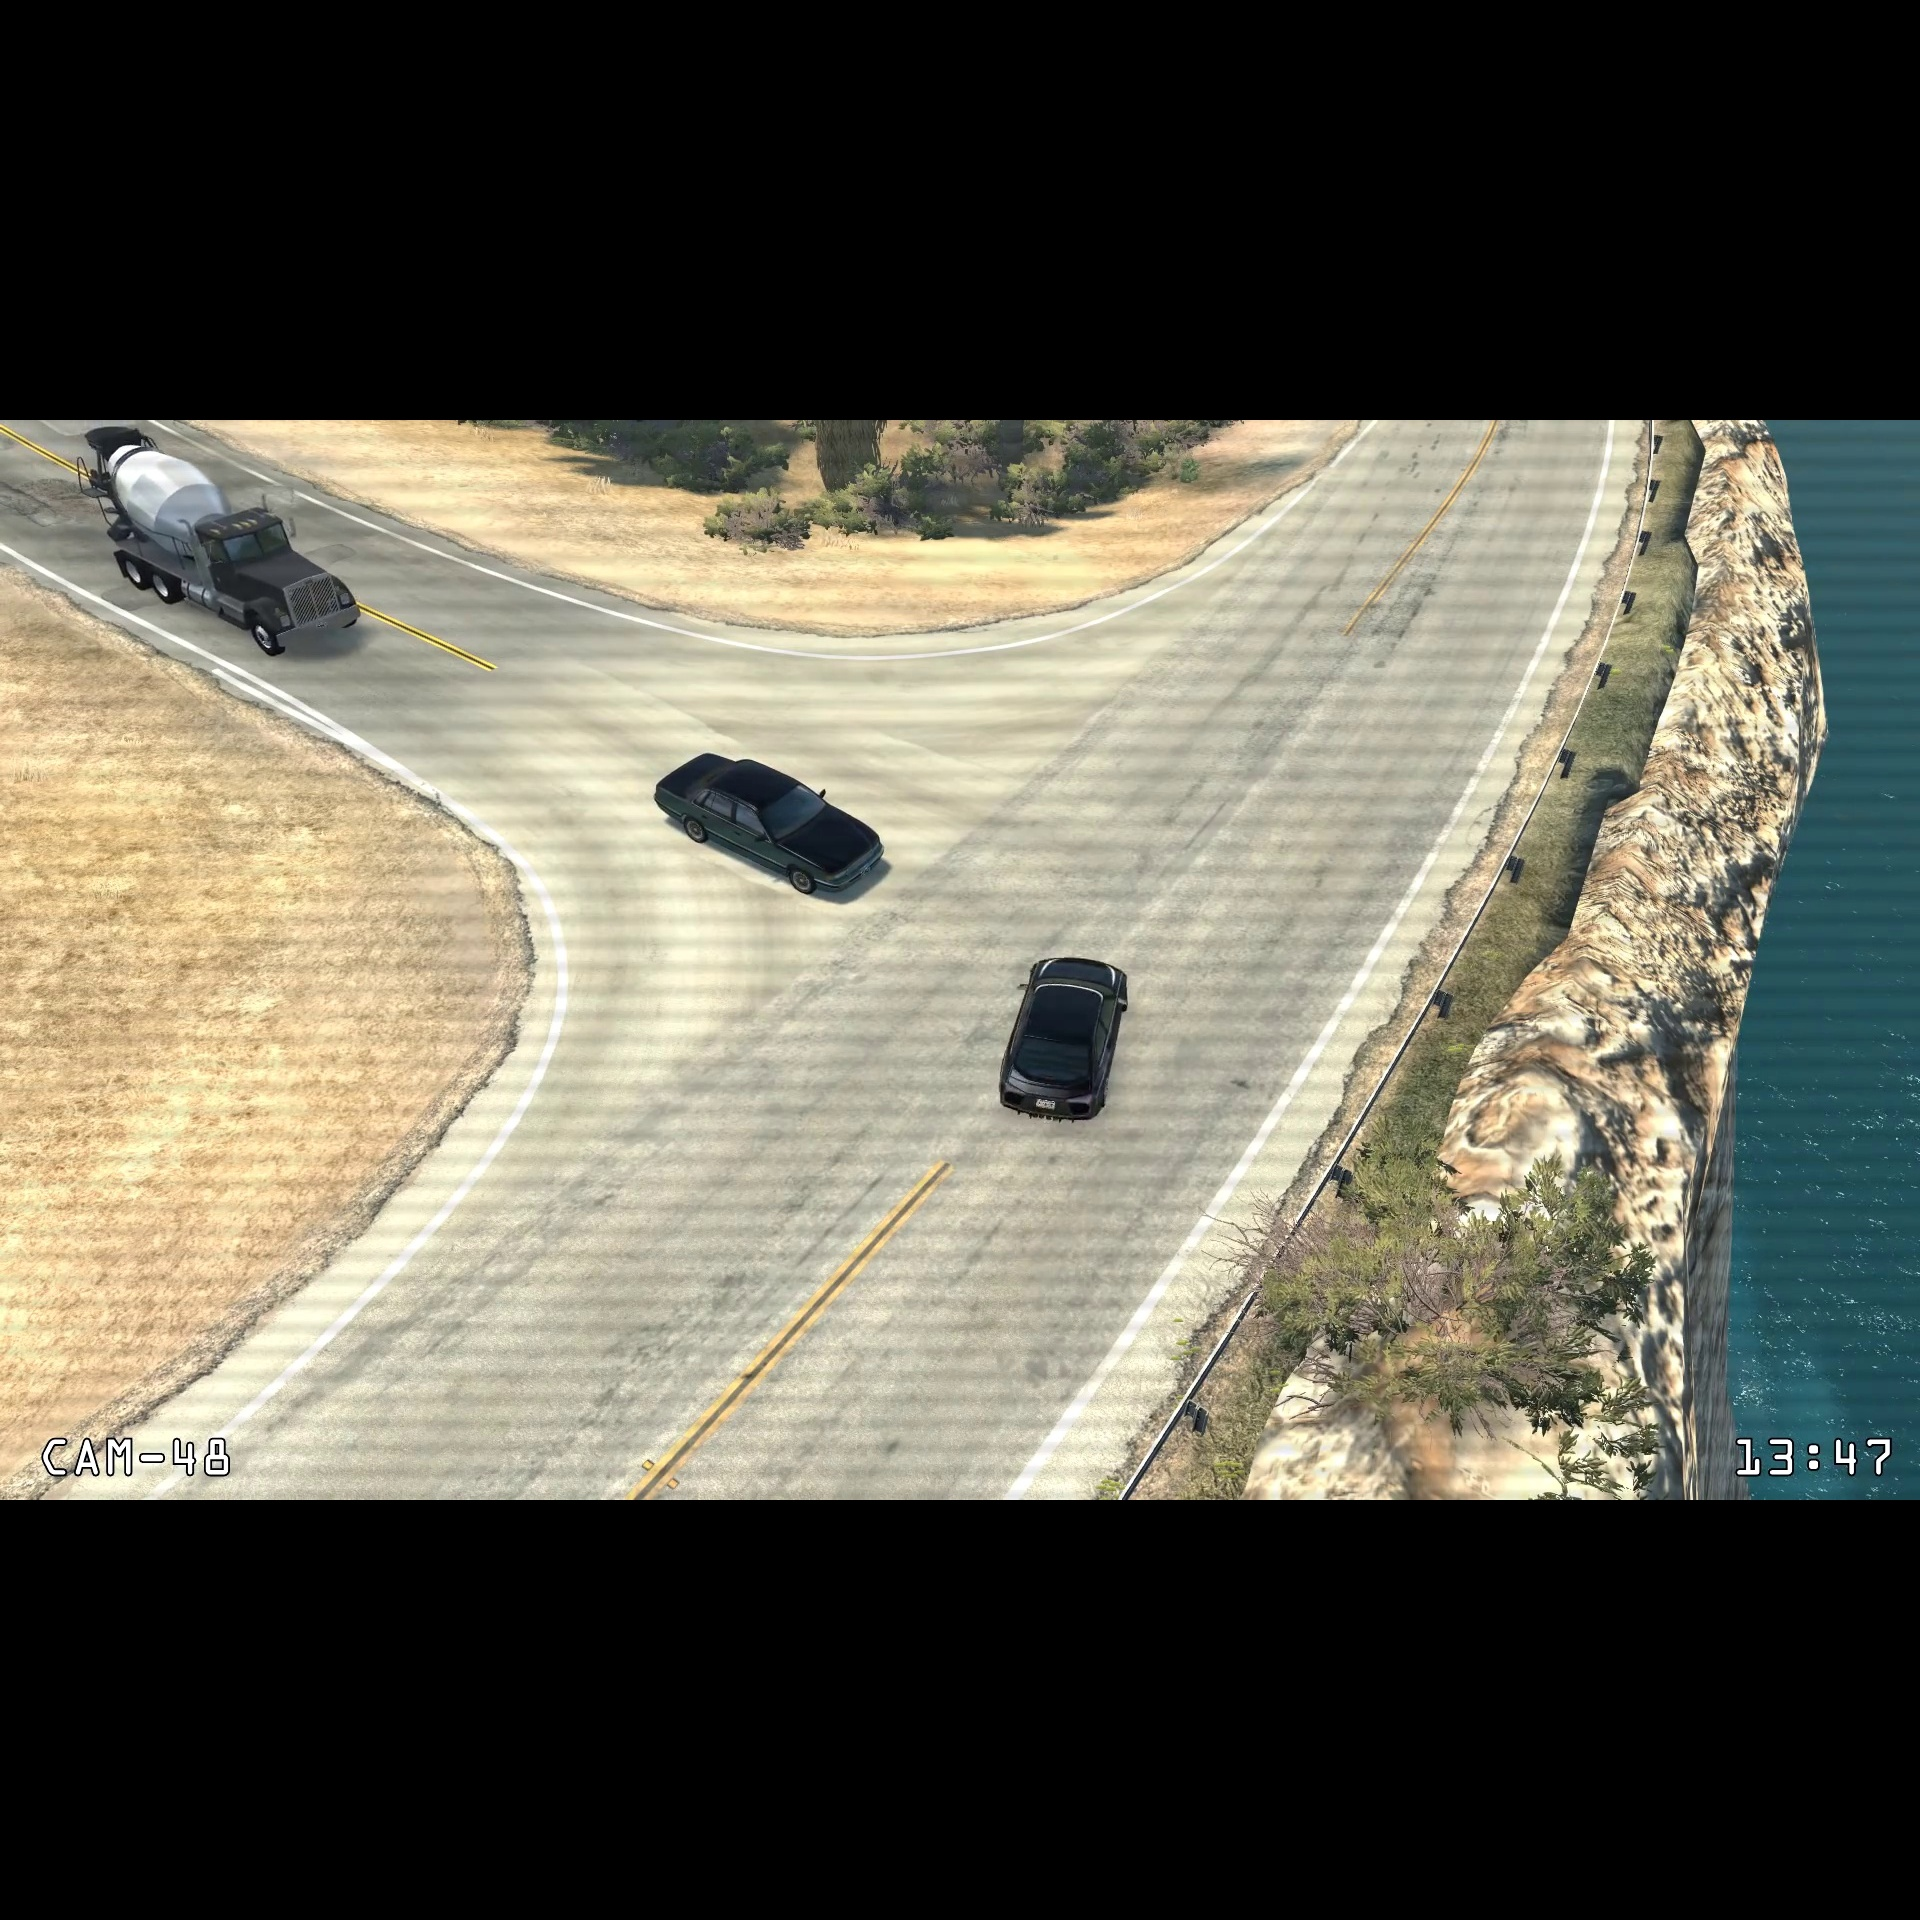vehicle: (63, 424, 375, 665), (644, 744, 893, 911), (986, 944, 1134, 1131)
